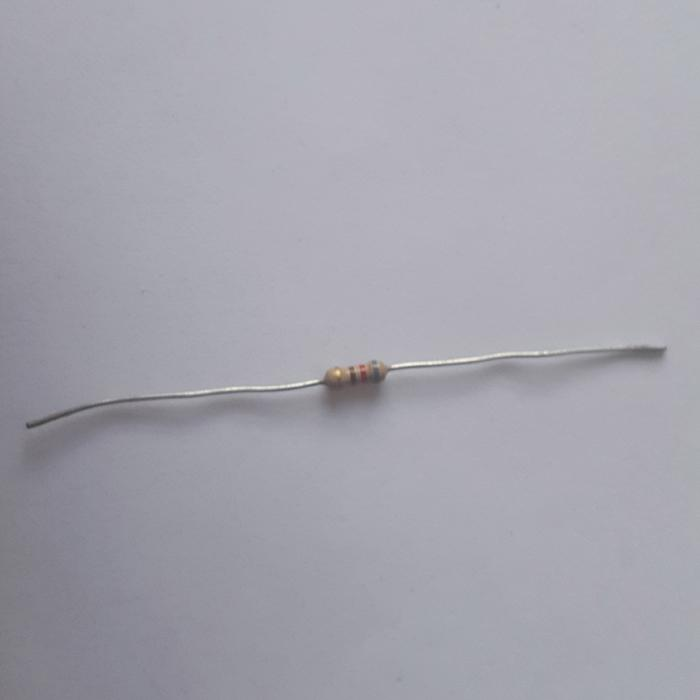resistor: (324, 359, 389, 389)
